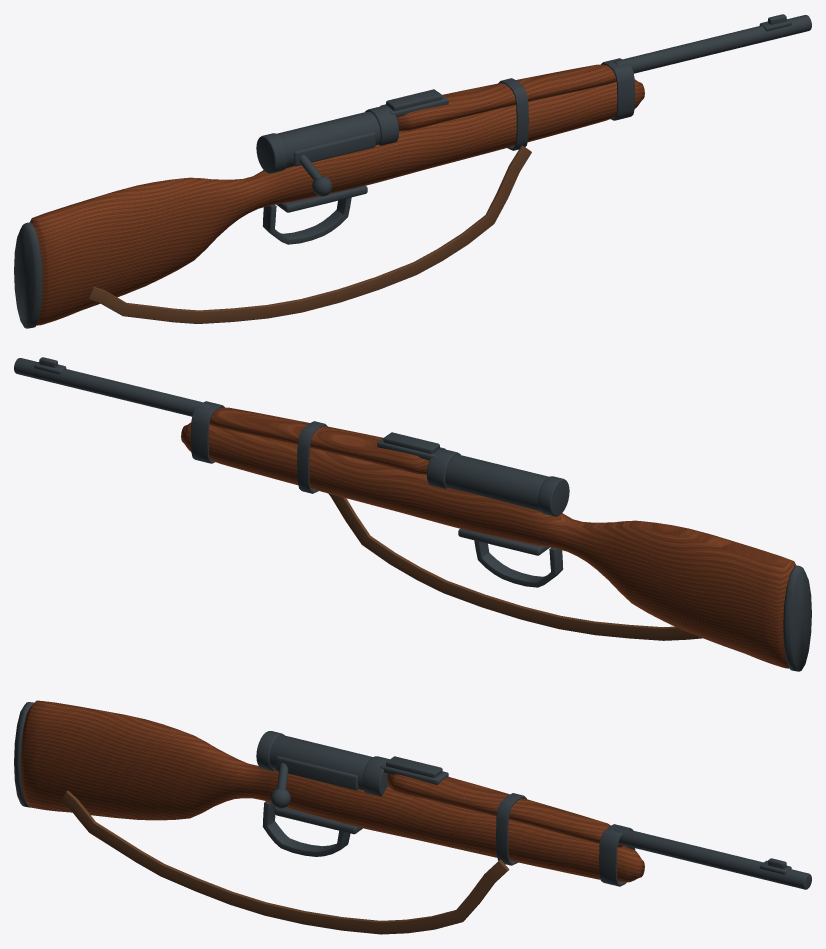
File: kar98k-exterior-standard.glb
The picture shows the model from 3 angles, top to bottom: view 1: azimuth 30°, elevation 25°; view 2: azimuth 150°, elevation 25°; view 3: azimuth 330°, elevation 25°; orthographic projection.
Visible parts, largest first — view 1: stock_shell, sling_visual, upper_wood_cover, solid_front_visual_no_bore, butt_cap, closed_upper_metal_shell, external_guard_no_trigger, upper_shell_side_plate, front_contour_band, rear_shell_rim, decorative_band, underside_solid_detail (+2 smaller); view 2: stock_shell, sling_visual, upper_wood_cover, closed_upper_metal_shell, solid_front_visual_no_bore, butt_cap, external_guard_no_trigger, front_contour_band, rear_shell_rim, decorative_band, underside_solid_detail, front_shell_rim (+1 smaller); view 3: stock_shell, sling_visual, upper_wood_cover, solid_front_visual_no_bore, closed_upper_metal_shell, external_guard_no_trigger, upper_shell_side_plate, front_contour_band, decorative_band, front_shell_rim, underside_solid_detail, butt_cap (+3 smaller).
Boxes of the visible parts, x1,y1,x2,y2 form: stock_shell: (30,79,644,325); sling_visual: (87,145,531,323); upper_wood_cover: (396,64,616,131); solid_front_visual_no_bore: (614,15,811,73); butt_cap: (14,222,42,328); closed_upper_metal_shell: (276,111,380,168); external_guard_no_trigger: (262,197,351,244); upper_shell_side_plate: (293,132,375,166); front_contour_band: (601,58,635,120); rear_shell_rim: (256,133,287,173); decorative_band: (498,78,528,150); underside_solid_detail: (276,185,367,212); stock_shell: (181,422,795,668); sling_visual: (328,493,702,640); upper_wood_cover: (209,407,429,474); closed_upper_metal_shell: (445,454,549,511); solid_front_visual_no_bore: (14,358,211,416); butt_cap: (783,565,811,671); external_guard_no_trigger: (474,540,563,587); front_contour_band: (190,401,224,463); rear_shell_rim: (538,476,569,516); decorative_band: (297,421,327,493); underside_solid_detail: (458,528,549,555); front_shell_rim: (426,448,460,488); stock_shell: (20,700,644,882); sling_visual: (61,790,509,934); upper_wood_cover: (387,774,622,847); solid_front_visual_no_bore: (614,827,811,889); closed_upper_metal_shell: (269,735,372,790); external_guard_no_trigger: (262,801,350,856); upper_shell_side_plate: (276,756,358,790); front_contour_band: (599,824,635,886); decorative_band: (496,793,526,865); front_shell_rim: (362,756,389,796); underside_solid_detail: (274,807,362,834); butt_cap: (14,702,33,807).
Size of the model in its own units: 4.79 by 0.9895 by 0.42.
Materials: 3 (2 with a texture image).
